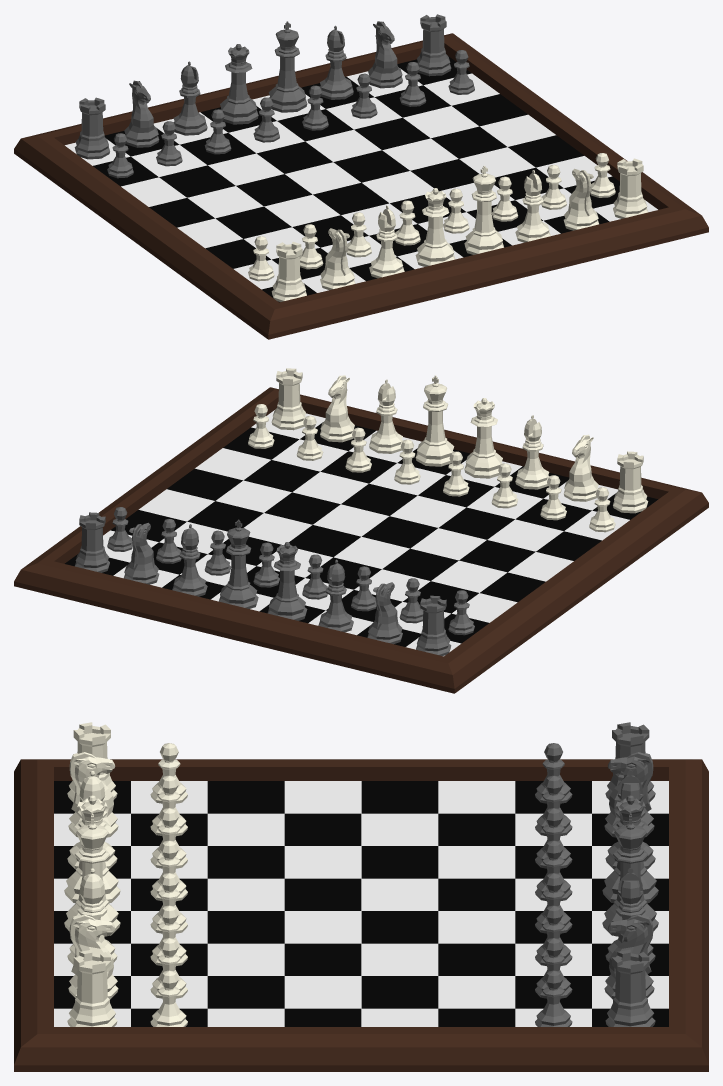
File: low_poly_chess_-_chess_board.glb
3 renders of one model, top to bottom at view 1: azimuth 30°, elevation 25°; view 2: azimuth 150°, elevation 25°; view 3: azimuth 270°, elevation 25°, orthographic. The views are drawn at different scales.
Parts seen in each view (by area): view 1: Board_Frame, Black_Pawn.015_0 (×7), White_Pawn.007_0 (×7), Black_King.001, White_King, Black_Queen.001, White_Queen, Black_Rook.003_0, Black_Rook.003, White_Rook.001_0, White_Rook.001, Black_Knight.003 (+9 smaller); view 2: Board_Frame, White_Pawn.007_0 (×7), Black_Pawn.015_0 (×7), White_King, Black_King.001, White_Queen, Black_Queen.001, White_Rook.001_0, White_Rook.001, Black_Rook.003, Black_Rook.003_0, White_Knight.001 (+9 smaller); view 3: Board_Frame, White_Pawn.007_0 (×7), Black_Pawn.015_0 (×7), Black_Rook.003, White_Rook.001, White_King, Black_King.001, Black_Knight.003, White_Knight.001, White_Knight.001_0, Black_Knight.003_0, White_Queen (+9 smaller).
Part boxes in pixels (x1,y1,x2,y2): Board_Frame: [14, 33, 708, 339]; Black_Pawn.015_0 (×7): [107, 62, 426, 178]; White_Pawn.007_0 (×7): [248, 165, 566, 281]; Black_King.001: [268, 21, 307, 112]; White_King: [464, 165, 503, 254]; Black_Queen.001: [220, 44, 258, 124]; White_Queen: [415, 188, 455, 266]; Black_Rook.003_0: [74, 97, 109, 159]; Black_Rook.003: [417, 14, 451, 76]; White_Rook.001_0: [271, 241, 306, 301]; White_Rook.001: [613, 158, 647, 218]; Black_Knight.003: [368, 21, 402, 88]; Board_Frame: [14, 387, 708, 693]; White_Pawn.007_0 (×7): [296, 416, 615, 532]; Black_Pawn.015_0 (×7): [156, 519, 474, 635]; White_King: [415, 375, 454, 466]; Black_King.001: [219, 519, 258, 608]; White_Queen: [464, 398, 502, 478]; Black_Queen.001: [267, 542, 307, 620]; White_Rook.001_0: [613, 451, 648, 513]; White_Rook.001: [271, 368, 305, 430]; Black_Rook.003: [75, 512, 109, 572]; Black_Rook.003_0: [416, 595, 451, 655]; White_Knight.001: [320, 375, 354, 442]; Board_Frame: [14, 759, 708, 1071]; White_Pawn.007_0 (×7): [150, 743, 187, 998]; Black_Pawn.015_0 (×7): [535, 743, 572, 998]; Black_Rook.003: [605, 949, 655, 1026]; White_Rook.001: [67, 949, 117, 1026]; White_King: [64, 813, 120, 936]; Black_King.001: [602, 813, 658, 936]; Black_Knight.003: [604, 914, 654, 999]; White_Knight.001: [68, 914, 118, 999]; White_Knight.001_0: [68, 752, 118, 837]; Black_Knight.003_0: [604, 752, 654, 837]; White_Queen: [64, 795, 120, 903].
Size of the model in its own units: 10.85 by 2.2 by 10.85.
